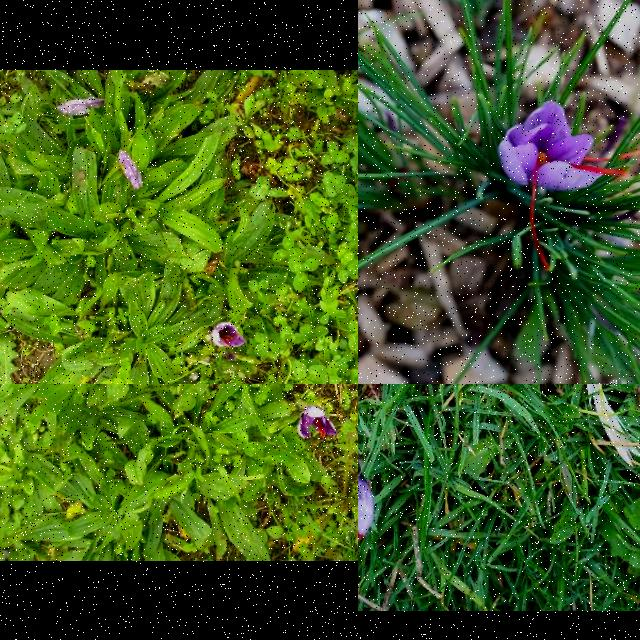flower: (498, 100, 640, 270), (296, 404, 338, 440), (358, 476, 375, 543), (211, 322, 247, 348)
